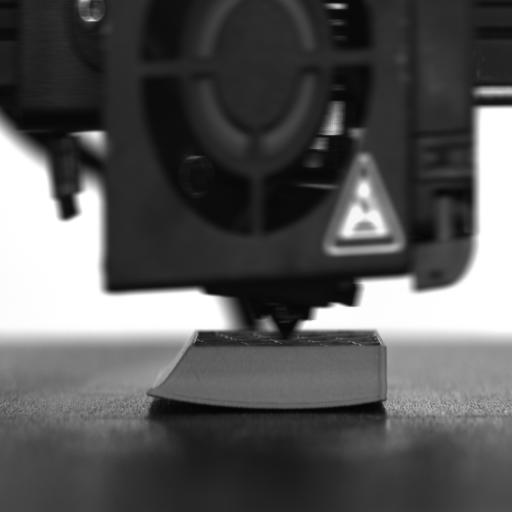warp: (142, 381, 200, 413), (366, 388, 395, 412)
